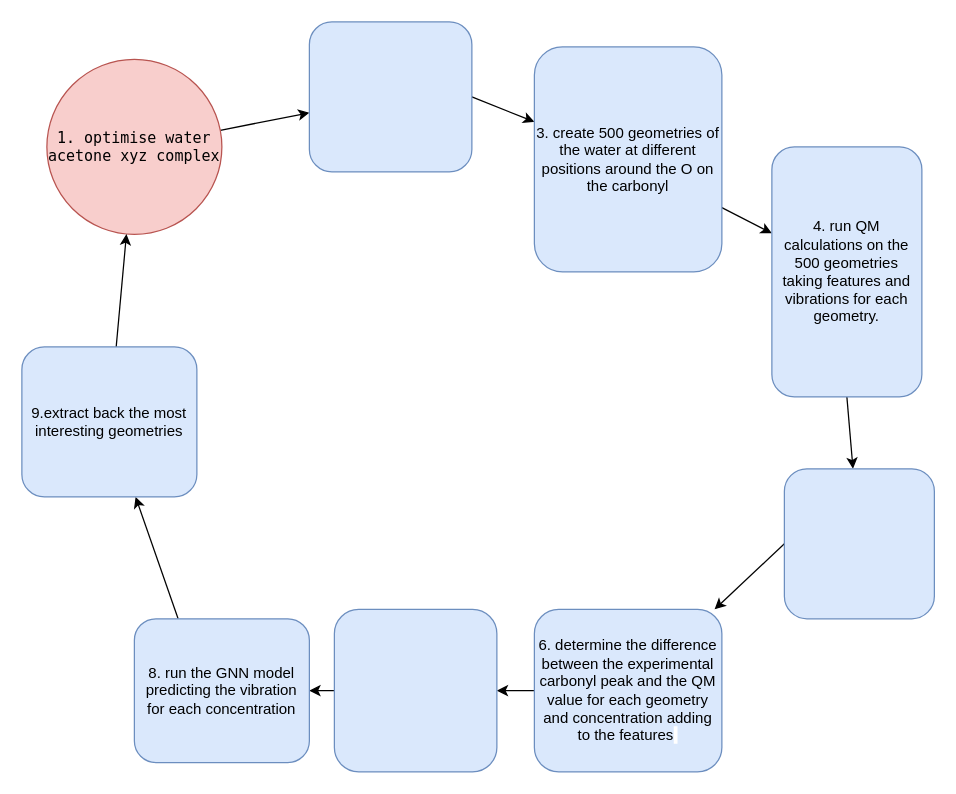
Some shapes in this 956 by 794 pixel diagram are drawn without their labels. The centre of each missing label's shape, as x and y in pixels:
2. center the oxygen on the carbonyl to 0,0,0: the point at 390,96
5. create a .sdf of the 500 geometries to feed into a graph for GNN: the point at 858,543
7. combine the QM features wth the .sdf geometries into a graph: the point at 415,690
